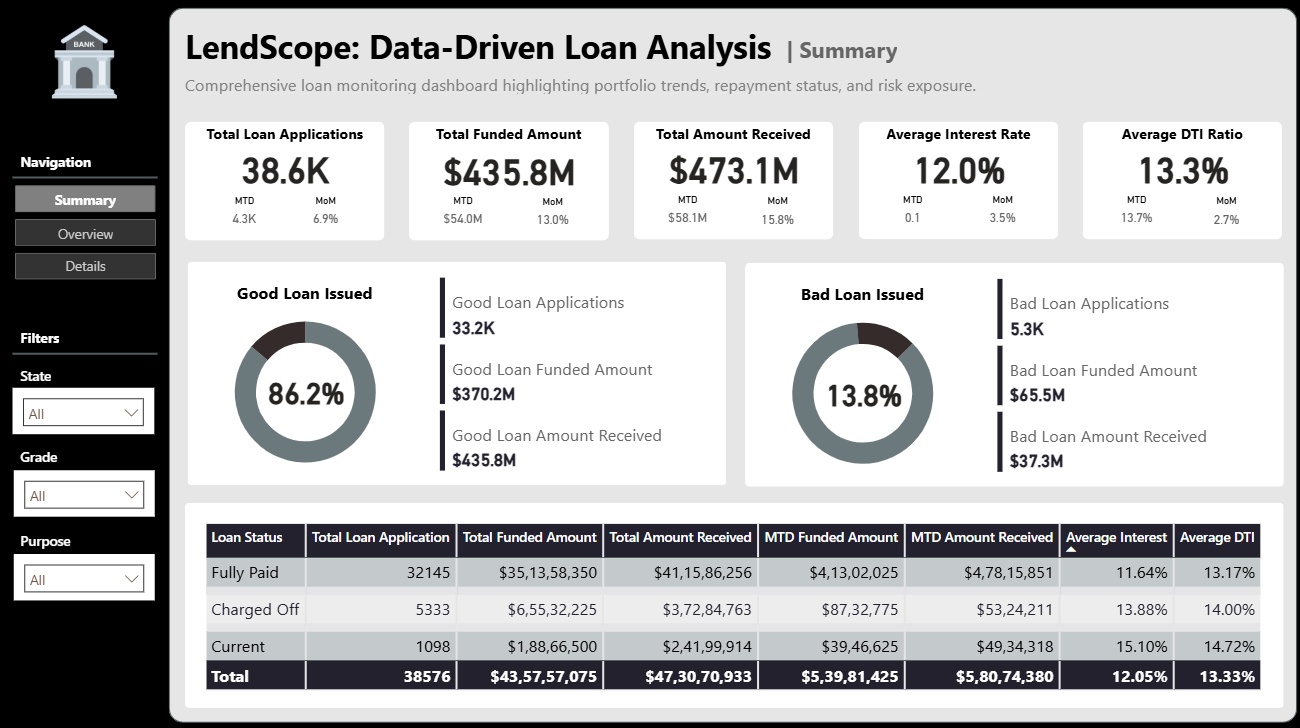

Layout of this report page (visuals, bound fields, positions):
{"tool":"powerbi","page":{"name":"Page 1","canvas":[1280,720],"ordinal":0},"visuals":[{"type":"group","id":"g1","title":"Heading","box":[0,8.8,1273.3,701.9],"z":0},{"type":"shape","title":"White Background","box":[165.7,8.8,1107.6,701.9],"z":0,"group":"g1"},{"type":"shape","title":"Total Loan Applications","box":[181.8,120,195.9,117.1],"z":0,"group":"g3"},{"type":"shape","title":"Total Loan Applications","box":[401.8,120,196.5,117.1],"z":0,"group":"g5"},{"type":"shape","title":"Total Loan Applications","box":[842.4,120,195.9,115.6],"z":0,"group":"g9"},{"type":"shape","title":"Total Loan Applications","box":[1062.4,120,196.1,115.9],"z":0,"group":"g10"},{"type":"shape","title":"Total Loan Applications","box":[622.4,120.6,195.8,116.1],"z":0,"group":"g7"},{"type":"shape","title":"Navigation Line","box":[12,166,142.4,16.7],"z":0,"group":"g11"},{"type":"shape","box":[183.6,258.2,529.1,220],"z":0,"group":"g12"},{"type":"shape","box":[731.4,258.6,529.1,220],"z":0,"group":"g13"},{"type":"group","id":"g2","title":"Filters","box":[12.5,320,142.9,35.7],"z":0,"group":"g16"},{"type":"shape","title":"Filters Line","box":[12.5,339,142.4,16.7],"z":0,"group":"g2"},{"type":"shape","title":"State","box":[20.4,361,73.9,18.3],"z":0,"group":"g4"},{"type":"shape","title":"Grade","box":[20.5,437.1,52.7,23.3],"z":0,"group":"g6"},{"type":"shape","box":[181.4,494.3,1078.6,201.4],"z":0,"group":"g14"},{"type":"shape","title":"Purpose","box":[20.5,518.6,52.7,23.3],"z":0,"group":"g8"},{"type":"image","title":"Logo","box":[0,21.3,165.6,82.1],"z":1000,"group":"g1"},{"type":"group","id":"g3","title":"Card 1","box":[181.8,120,195.9,117.1],"z":1000},{"type":"card","title":"Card - Loan Applications","fields":{"Values":["Bank_Loan_Data.Avg Interest Rate"]},"box":[858.4,144.4,165.7,41.7],"z":1000,"group":"g9"},{"type":"card","title":"Card - Loan Applications","fields":{"Values":["Bank_Loan_Data.Average DTI"]},"box":[1078.5,144.5,165.9,41.8],"z":1000,"group":"g10"},{"type":"card","title":"Card - Loan Applications","fields":{"Values":["Bank_Loan_Data.Total Loan Application"]},"box":[197.8,144.7,165.7,42.2],"z":1000,"group":"g3"},{"type":"card","title":"Card - Loan Applications","fields":{"Values":["Bank_Loan_Data.Total Amount Received"]},"box":[638.4,145.1,165.6,41.9],"z":1000,"group":"g7"},{"type":"card","title":"Card - Loan Applications","fields":{"Values":["Bank_Loan_Data.Total Funded Amount"]},"box":[417.9,146.5,166,41.2],"z":1000,"group":"g5"},{"type":"shape","title":"Navigation","box":[19.1,147,115.2,23.3],"z":1000,"group":"g11"},{"type":"shape","title":"Filters","box":[19.6,320,115.2,23.3],"z":1000,"group":"g2"},{"type":"group","id":"g4","title":"State","box":[12.8,361,139,66.2],"z":1000,"group":"g16"},{"type":"card","title":"Card - Loan Applications","fields":{"Values":["Bank_Loan_Data.Good Loan Percentage"]},"box":[218,366,165,41],"z":1000,"group":"g12"},{"type":"card","title":"Card - Loan Applications","fields":{"Values":["Bank_Loan_Data.Bad Loan Percentage"]},"box":[765.8,366.4,165,41],"z":1000,"group":"g13"},{"type":"slicer","fields":{"Values":["Bank_Loan_Data.address_state"]},"box":[12.8,382,139,45.2],"z":1000,"group":"g4"},{"type":"slicer","fields":{"Values":["Bank_Loan_Data.grade"]},"box":[13.8,463.1,138,45.3],"z":1000,"group":"g6"},{"type":"tableEx","fields":{"Values":["Bank_Loan_Data.loan_status","Bank_Loan_Data.Total Loan Application","Bank_Loan_Data.Total Funded Amount","Bank_Loan_Data.Total Amount Received","Bank_Loan_Data.MTD Funded Amount","Bank_Loan_Data.MTD Amount Received","Bank_Loan_Data.Avg Interest Rate","Bank_Loan_Data.Average DTI"]},"box":[196.4,510.1,1052.5,174.2],"z":1000,"group":"g14"},{"type":"slicer","fields":{"Values":["Bank_Loan_Data.purpose"]},"box":[13.8,544.6,138,45.3],"z":1000,"group":"g8"},{"type":"shape","title":"Title","box":[181.7,24.9,587.7,41.7],"z":2000,"group":"g1"},{"type":"group","id":"g5","title":"Card 2","box":[401.8,120,196.5,117.1],"z":2000},{"type":"shape","title":"Summary - A","box":[14.1,182.3,138,26.7],"z":2000,"group":"g15"},{"type":"card","title":"MTD","fields":{"Values":["Bank_Loan_Data.MTD Avg Interest Rate"]},"box":[866.9,191.4,57,37.2],"z":2000,"group":"g9"},{"type":"card","title":"MTD","fields":{"Values":["Bank_Loan_Data.MTD Avg DTI"]},"box":[1086.9,191.5,57,37.3],"z":2000,"group":"g10"},{"type":"card","title":"MTD","fields":{"Values":["Bank_Loan_Data.MTD Amount Received"]},"box":[646.8,192.3,56.9,37.4],"z":2000,"group":"g7"},{"type":"card","title":"MTD","fields":{"Values":["Bank_Loan_Data.MTD Loan Applications"]},"box":[218.3,192.8,42.9,37.1],"z":2000,"group":"g3"},{"type":"card","title":"MTD","fields":{"Values":["Bank_Loan_Data.MTD Funded Amount"]},"box":[426.3,192.9,57.1,36.8],"z":2000,"group":"g5"},{"type":"shape","box":[763.3,269.3,166.7,37.8],"z":2000,"group":"g13"},{"type":"donutChart","fields":{"Y":["Bank_Loan_Data.Total Loan Application"],"Category":["Bank_Loan_Data.Good vs Bad Loan"]},"box":[193,295,212,183],"z":2000,"group":"g12"},{"type":"group","id":"g6","title":"Grade","box":[13.8,437.1,138.6,71.4],"z":2000,"group":"g16"},{"type":"shape","title":"Subtitle","box":[181.7,72.8,786.5,20.9],"z":3000,"group":"g1"},{"type":"group","id":"g7","title":"Card 3","box":[622.4,120.6,195.9,116.5],"z":3000},{"type":"card","title":"MoM","fields":{"Values":["Bank_Loan_Data.MoM Avg Interest Rate"]},"box":[955,191.7,56.7,36.9],"z":3000,"group":"g9"},{"type":"card","title":"MoM","fields":{"Values":["Bank_Loan_Data.MoM Avg DTI"]},"box":[1175.1,191.9,56.8,36.9],"z":3000,"group":"g10"},{"type":"card","title":"MoM","fields":{"Values":["Bank_Loan_Data.MoM Amount Received"]},"box":[734.9,192.6,56.7,37],"z":3000,"group":"g7"},{"type":"card","title":"MoM","fields":{"Values":["Bank_Loan_Data.Month On Month Loan Applications"]},"box":[298.3,192.8,42.9,37.1],"z":3000,"group":"g3"},{"type":"card","title":"MoM","fields":{"Values":["Bank_Loan_Data.MoM Funded Amount"]},"box":[514.6,193.3,56.8,36.4],"z":3000,"group":"g5"},{"type":"shape","title":"Details - IA","box":[14,249.3,138.5,26.2],"z":3000,"group":"g15"},{"type":"shape","box":[215.5,268.9,166.7,37.8],"z":3000,"group":"g12"},{"type":"donutChart","fields":{"Y":["Bank_Loan_Data.Total Loan Application"],"Category":["Bank_Loan_Data.Good vs Bad Loan"]},"box":[740.8,295.4,212,183],"z":3000,"group":"g13"},{"type":"group","id":"g8","title":"Purpose","box":[13.8,518.6,138.6,71.4],"z":3000,"group":"g16"},{"type":"shape","title":"Summary","box":[769.4,34.7,114.1,29.4],"z":4000,"group":"g1"},{"type":"group","id":"g9","title":"Card 4","box":[842.4,120,195.9,117.1],"z":4000},{"type":"shape","title":"Overview - IA","box":[13.9,215.8,138.3,26.7],"z":4000,"group":"g15"},{"type":"cardVisual","fields":{"Data":["Bank_Loan_Data.Good Loan Applications","Bank_Loan_Data.Good Loan Funded Amount","Bank_Loan_Data.Good Loan Amount Received"]},"box":[426.2,268.8,277.5,200],"z":4000,"group":"g12"},{"type":"cardVisual","fields":{"Data":["Bank_Loan_Data.Bad Loan Applications","Bank_Loan_Data.Bad Loan Funded Amount","Bank_Loan_Data.Bad Loan Amount Received"]},"box":[974,269.2,277.5,200],"z":4000,"group":"g13"},{"type":"group","id":"g10","title":"Card 5","box":[1062.4,120,197.1,117.1],"z":5000},{"type":"group","id":"g11","title":"Navigation","box":[12,147,142.4,35.7],"z":6000,"group":"g15"},{"type":"group","id":"g12","title":"Good Loan","box":[183.6,258.2,529.1,220],"z":6000},{"type":"group","id":"g13","title":"Bad Loan","box":[731.4,258.6,529.1,220],"z":7000},{"type":"group","id":"g14","title":"Table","box":[181.4,494.3,1078.6,201.4],"z":8000},{"type":"group","id":"g15","title":"Navigation Whole","box":[12,147,142.3,128.8],"z":9000},{"type":"group","id":"g16","title":"Filters Whole","box":[12.3,320,143,351.5],"z":10000}]}

Visuals, with their boxes on the page's 1280x720 design canvas (x1, y1, x2, y2). These are canvas units, not pixel positions in the 1300x728 screenshot, which may show the page scaled, cropped or inside an application window:
"Heading" group: 0, 9, 1273, 711
"White Background" shape: 166, 9, 1273, 711
"Total Loan Applications" shape: 182, 120, 378, 237
"Total Loan Applications" shape: 402, 120, 598, 237
"Total Loan Applications" shape: 842, 120, 1038, 236
"Total Loan Applications" shape: 1062, 120, 1258, 236
"Total Loan Applications" shape: 622, 121, 818, 237
"Navigation Line" shape: 12, 166, 154, 183
shape: 184, 258, 713, 478
shape: 731, 259, 1260, 479
"Filters" group: 12, 320, 155, 356
"Filters Line" shape: 12, 339, 155, 356
"State" shape: 20, 361, 94, 379
"Grade" shape: 20, 437, 73, 460
shape: 181, 494, 1260, 696
"Purpose" shape: 20, 519, 73, 542
"Logo" image: 0, 21, 166, 103
"Card 1" group: 182, 120, 378, 237
"Card - Loan Applications" card: 858, 144, 1024, 186
"Card - Loan Applications" card: 1078, 144, 1244, 186
"Card - Loan Applications" card: 198, 145, 364, 187
"Card - Loan Applications" card: 638, 145, 804, 187
"Card - Loan Applications" card: 418, 146, 584, 188
"Navigation" shape: 19, 147, 134, 170
"Filters" shape: 20, 320, 135, 343
"State" group: 13, 361, 152, 427
"Card - Loan Applications" card: 218, 366, 383, 407
"Card - Loan Applications" card: 766, 366, 931, 407
slicer - Bank_Loan_Data.address_state: 13, 382, 152, 427
slicer - Bank_Loan_Data.grade: 14, 463, 152, 508
tableEx - Bank_Loan_Data.loan_status x Bank_Loan_Data.Total Loan Application: 196, 510, 1249, 684
slicer - Bank_Loan_Data.purpose: 14, 545, 152, 590
"Title" shape: 182, 25, 769, 67
"Card 2" group: 402, 120, 598, 237
"Summary - A" shape: 14, 182, 152, 209
"MTD" card: 867, 191, 924, 229
"MTD" card: 1087, 192, 1144, 229
"MTD" card: 647, 192, 704, 230
"MTD" card: 218, 193, 261, 230
"MTD" card: 426, 193, 483, 230
shape: 763, 269, 930, 307
donutChart - Bank_Loan_Data.Total Loan Application x Bank_Loan_Data.Good vs Bad Loan: 193, 295, 405, 478
"Grade" group: 14, 437, 152, 508
"Subtitle" shape: 182, 73, 968, 94
"Card 3" group: 622, 121, 818, 237
"MoM" card: 955, 192, 1012, 229
"MoM" card: 1175, 192, 1232, 229
"MoM" card: 735, 193, 792, 230
"MoM" card: 298, 193, 341, 230
"MoM" card: 515, 193, 571, 230
"Details - IA" shape: 14, 249, 152, 276
shape: 216, 269, 382, 307
donutChart - Bank_Loan_Data.Total Loan Application x Bank_Loan_Data.Good vs Bad Loan: 741, 295, 953, 478
"Purpose" group: 14, 519, 152, 590
"Summary" shape: 769, 35, 884, 64
"Card 4" group: 842, 120, 1038, 237
"Overview - IA" shape: 14, 216, 152, 242
cardVisual - Bank_Loan_Data.Good Loan Applications x Bank_Loan_Data.Good Loan Funded Amount: 426, 269, 704, 469
cardVisual - Bank_Loan_Data.Bad Loan Applications x Bank_Loan_Data.Bad Loan Funded Amount: 974, 269, 1252, 469
"Card 5" group: 1062, 120, 1260, 237
"Navigation" group: 12, 147, 154, 183
"Good Loan" group: 184, 258, 713, 478
"Bad Loan" group: 731, 259, 1260, 479
"Table" group: 181, 494, 1260, 696
"Navigation Whole" group: 12, 147, 154, 276
"Filters Whole" group: 12, 320, 155, 672
